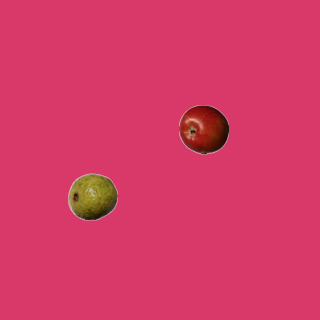Apple Braeburn: (178, 104, 228, 154)
Guava: (67, 171, 117, 221)
